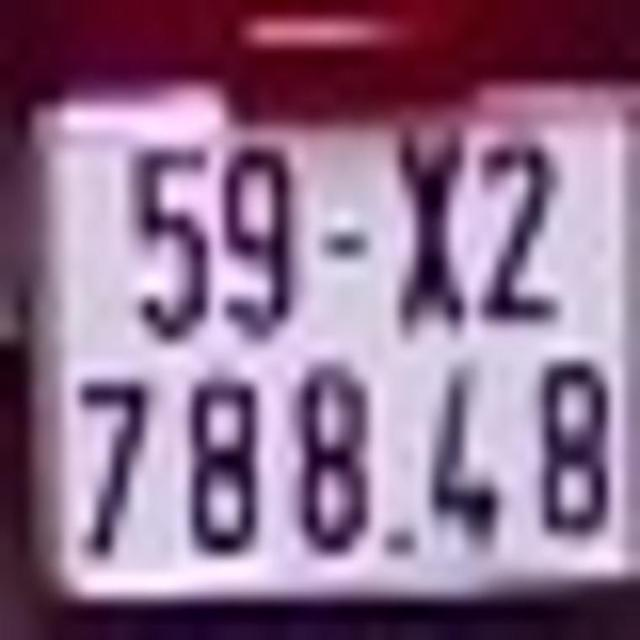2: (479, 134, 564, 326)
4: (432, 361, 500, 553)
5: (130, 141, 213, 342)
7: (72, 372, 152, 561)
8: (300, 361, 368, 554), (188, 374, 259, 556), (542, 359, 608, 538)
9: (221, 143, 293, 342)
X: (396, 126, 464, 331)
